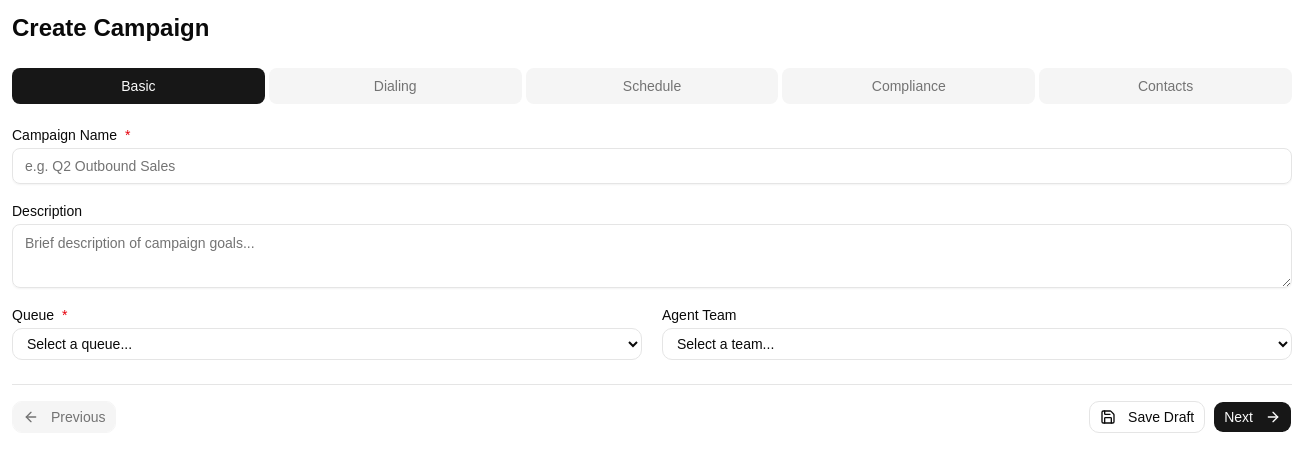
Test: CampaignWizard without a queue › CampaignWizard_ShouldStayOnTheBasicStep_WhenNextIsPressedWithoutAQueue
Type "Q4 renewals" into the field labelled "Campaign Name *" at (652,166), box left=12, top=148, right=1292, bottom=184
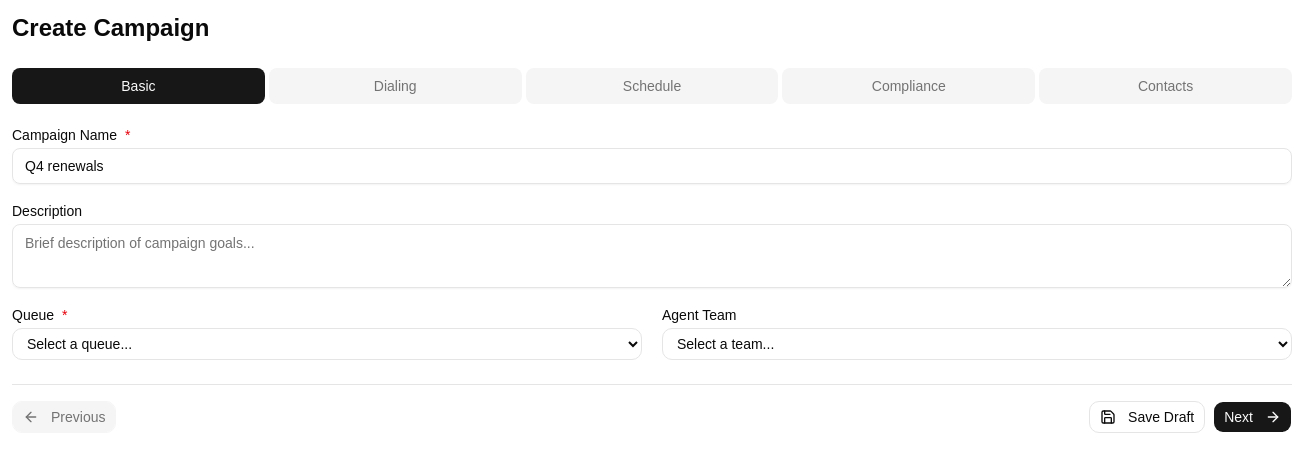
Select "Outbound" in the dropdown labelled "Agent Team" at (977,344), box left=662, top=328, right=1292, bottom=360
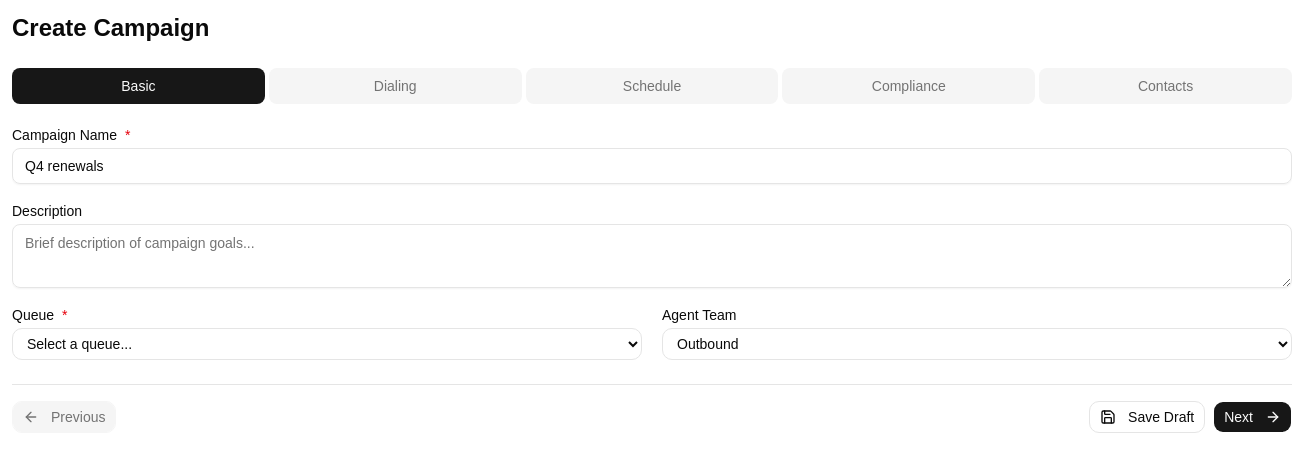
Click the button "Next" at (1253,417), box left=1213, top=401, right=1292, bottom=433
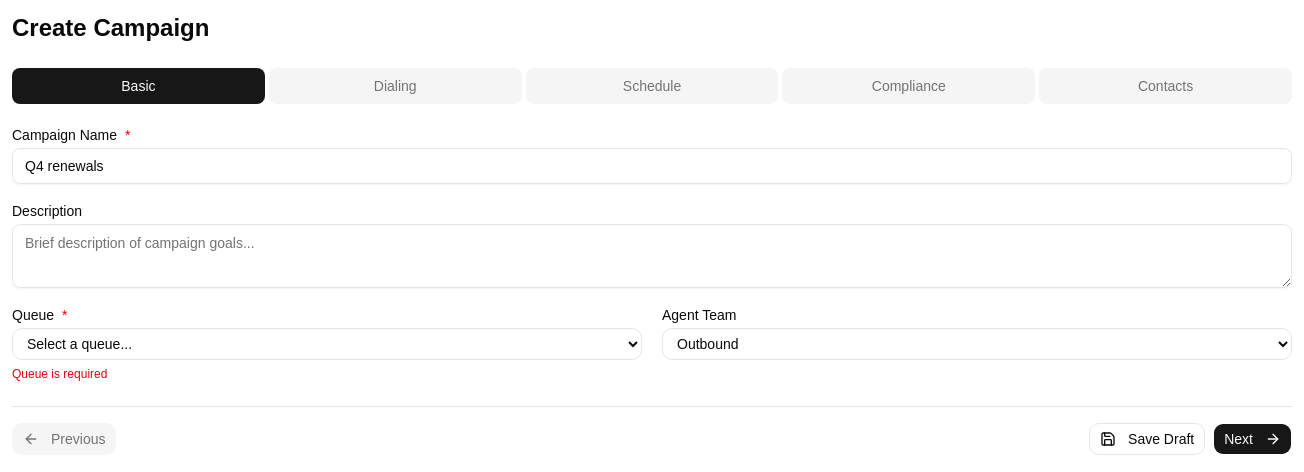
Result: the message with test id "campaign-wizard-queue-error" reads "Queue is required" at left=12, top=367, right=107, bottom=381
